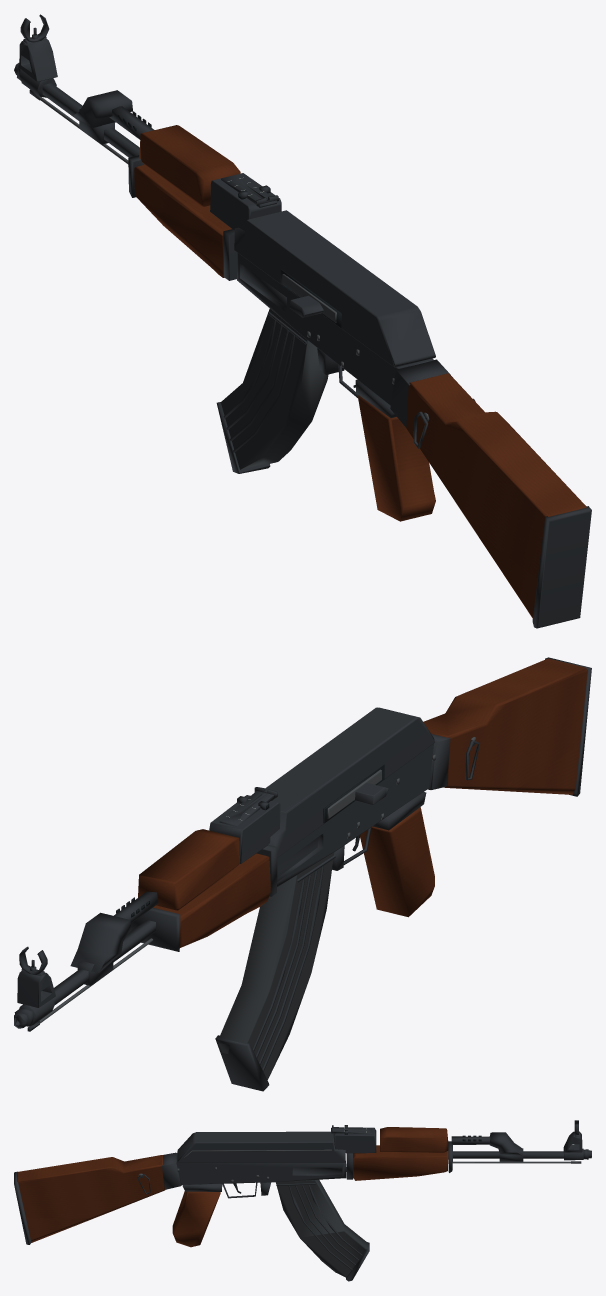
The picture shows the model from 3 angles, top to bottom: view 1: azimuth 30°, elevation 25°; view 2: azimuth 150°, elevation 25°; view 3: azimuth 270°, elevation 25°; orthographic projection. The views are drawn at different scales.
Parts seen in each view (by area): view 1: Body_Mesh, Magazine_Mesh, RearSight_Mesh, FrontSight_Mesh, Bolt_Mesh; view 2: Body_Mesh, Magazine_Mesh, RearSight_Mesh, FrontSight_Mesh, Bolt_Mesh; view 3: Body_Mesh, Magazine_Mesh, RearSight_Mesh, FrontSight_Mesh.
Boxes of the visible parts, x1,y1,x2,y2 form: Body_Mesh: [17, 65, 591, 628]; Magazine_Mesh: [216, 308, 328, 473]; RearSight_Mesh: [210, 173, 281, 230]; FrontSight_Mesh: [19, 14, 57, 97]; Bolt_Mesh: [282, 274, 336, 322]; Body_Mesh: [14, 657, 591, 1031]; Magazine_Mesh: [215, 852, 335, 1091]; RearSight_Mesh: [209, 787, 280, 863]; FrontSight_Mesh: [17, 946, 55, 1025]; Bolt_Mesh: [327, 769, 388, 818]; Body_Mesh: [14, 1127, 588, 1247]; Magazine_Mesh: [276, 1179, 369, 1281]; RearSight_Mesh: [331, 1125, 376, 1153]; FrontSight_Mesh: [563, 1120, 583, 1160].
Size of the model in its own units: 0.0643 by 0.2592 by 0.8748.
Materials: 6 (1 with a texture image).
